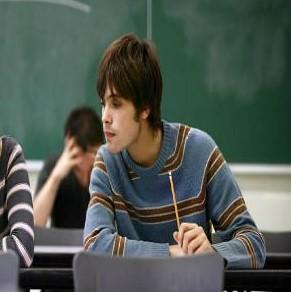cheating: (78, 30, 271, 274)
